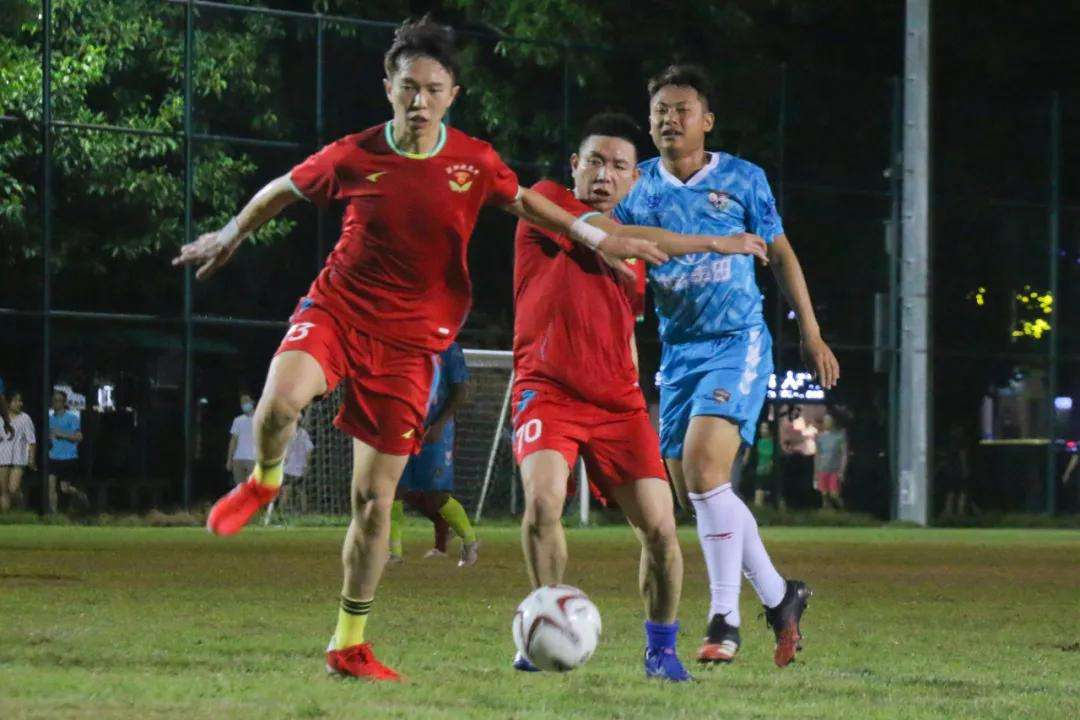football: (513, 582, 604, 673)
